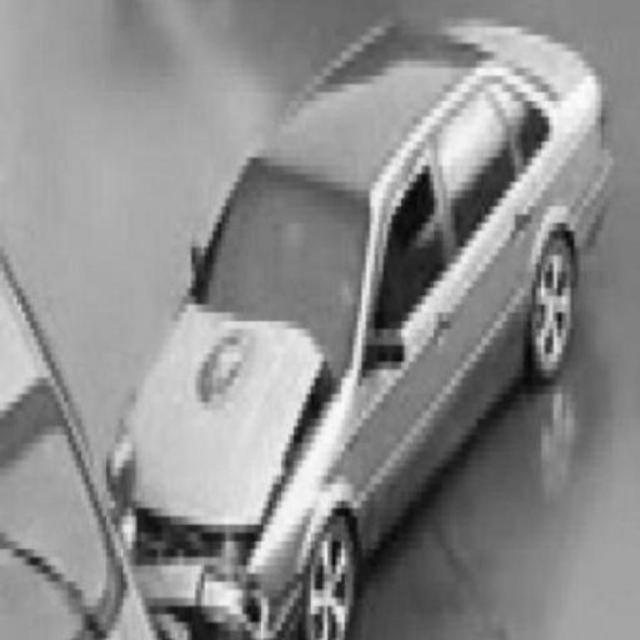accident: (3, 16, 611, 640)
